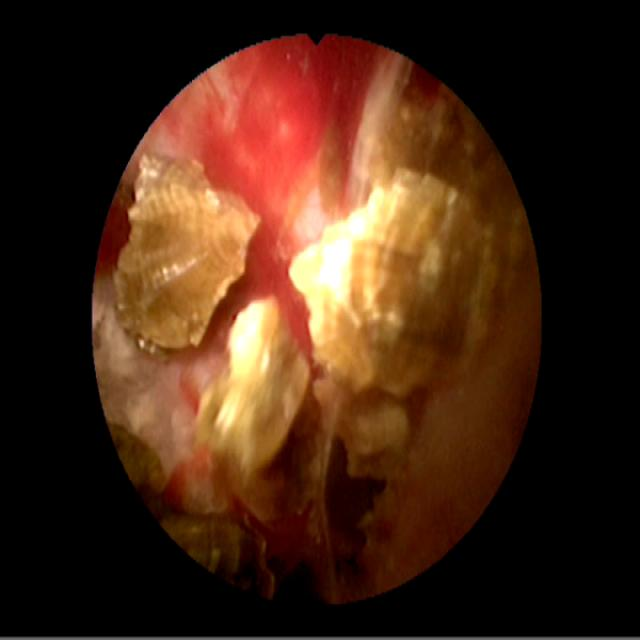stone: (290, 90, 503, 548), (114, 155, 258, 347), (96, 284, 193, 490), (192, 301, 306, 475), (168, 516, 273, 586)
tissue: (174, 41, 369, 277)
